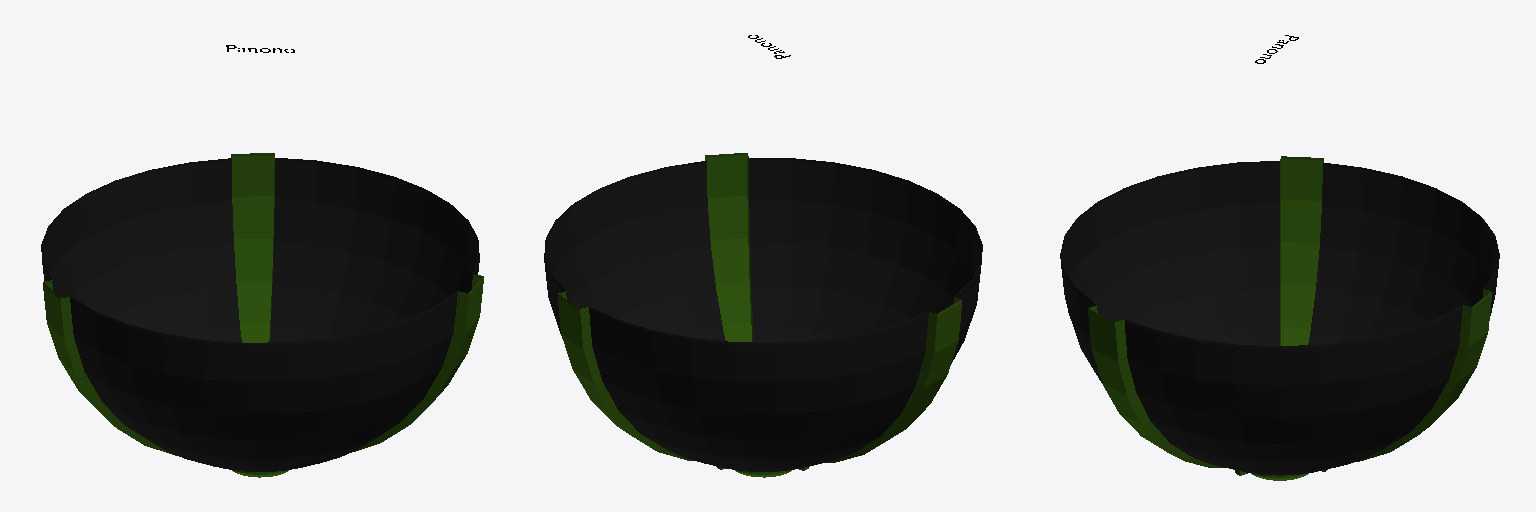
The model's file is panono_helft_onderkant.obj.
3 renders of one model, left to right at view 1: azimuth 30°, elevation 25°; view 2: azimuth 150°, elevation 25°; view 3: azimuth 270°, elevation 25°, orthographic.
Parts seen in each view (by area): view 1: Sphere_Sphere.001; view 2: Sphere_Sphere.001; view 3: Sphere_Sphere.001.
Part boxes in pixels (left/top/right/bottom): Sphere_Sphere.001: left=41, top=153, right=483, bottom=477; Sphere_Sphere.001: left=544, top=153, right=982, bottom=477; Sphere_Sphere.001: left=1060, top=156, right=1499, bottom=480.
Bounding box in the file's own units: 2.05 × 2.09 × 2.